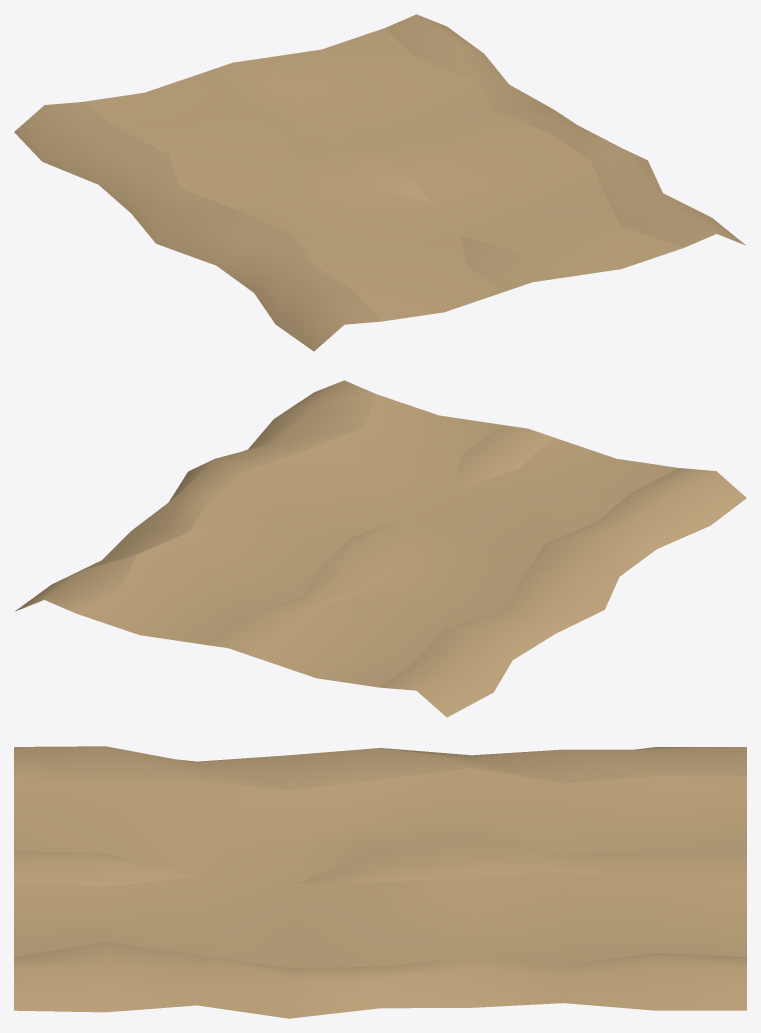
File: Building_mode_L1_Road003.fbx
3 views of the same model, one above another, from view 1: azimuth 30°, elevation 25°; view 2: azimuth 150°, elevation 25°; view 3: azimuth 270°, elevation 25° (orthographic). The views are drawn at different scales.
Parts seen in each view (by area): view 1: Building_mode_L1_Road003; view 2: Building_mode_L1_Road003; view 3: Building_mode_L1_Road003.
Part boxes in pixels (x1=…): Building_mode_L1_Road003: x1=14, y1=14, x2=745, y2=351; Building_mode_L1_Road003: x1=15, y1=380, x2=746, y2=717; Building_mode_L1_Road003: x1=14, y1=746, x2=746, y2=1018.
Bounding box in the file's own units: 2.63 × 0.1243 × 3.
